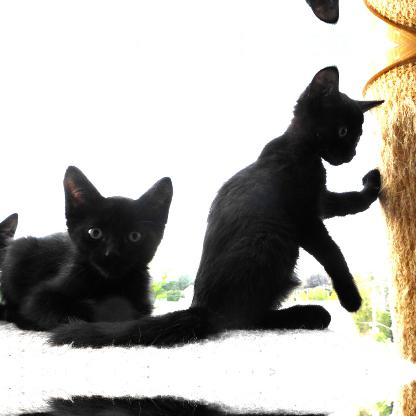Cat: (44, 64, 380, 348), (0, 162, 172, 332)
